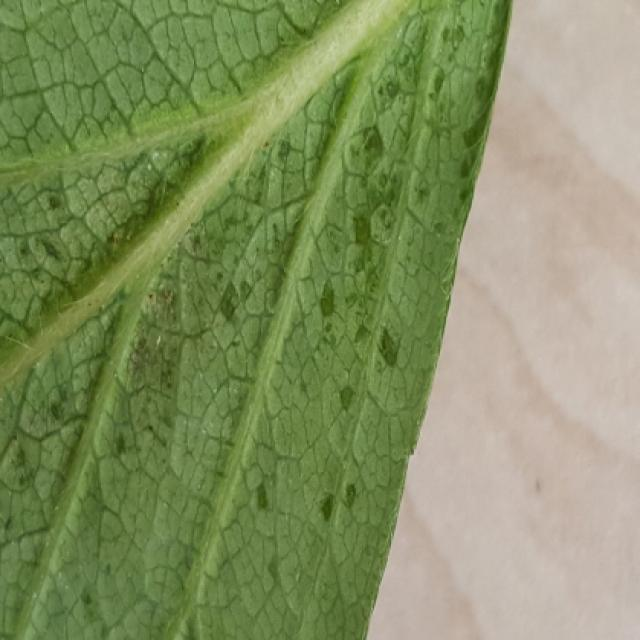Angular Leafspot: (2, 0, 513, 609)
